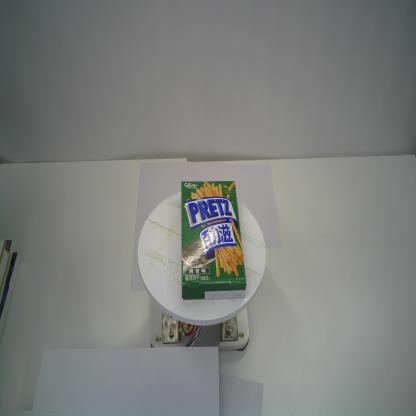Dessert: (181, 180, 247, 300)
